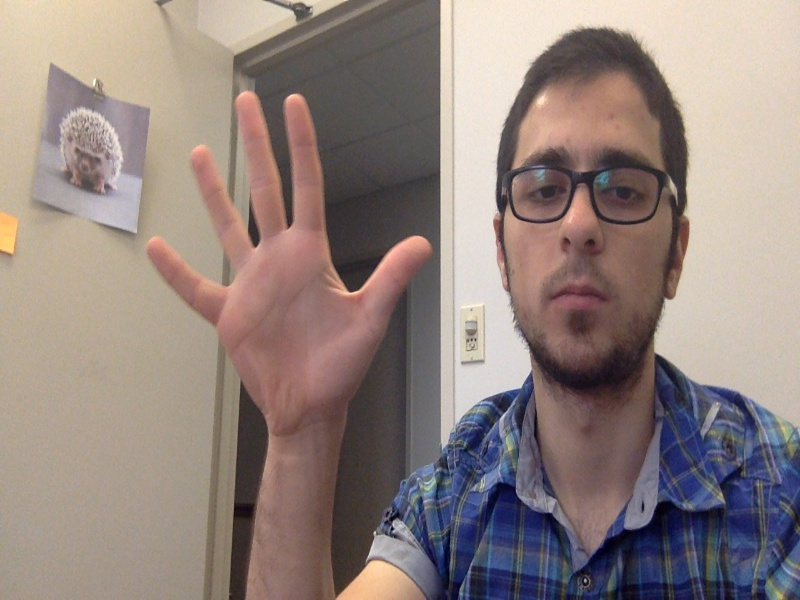5-hand: (147, 91, 431, 434)
